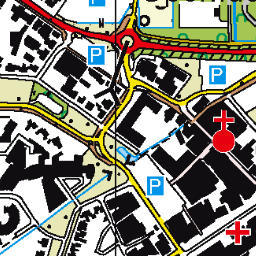church: (208, 107, 238, 156)
